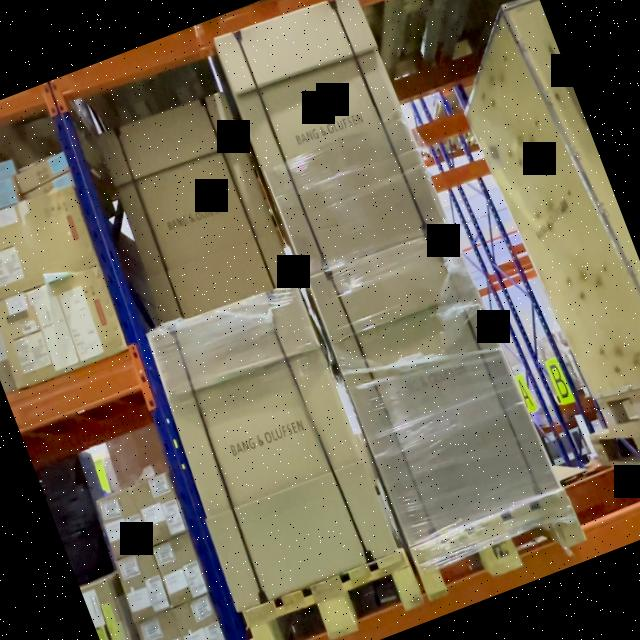box: (152, 281, 398, 605), (314, 228, 556, 542), (215, 0, 446, 282), (104, 91, 290, 323), (274, 244, 275, 245)
